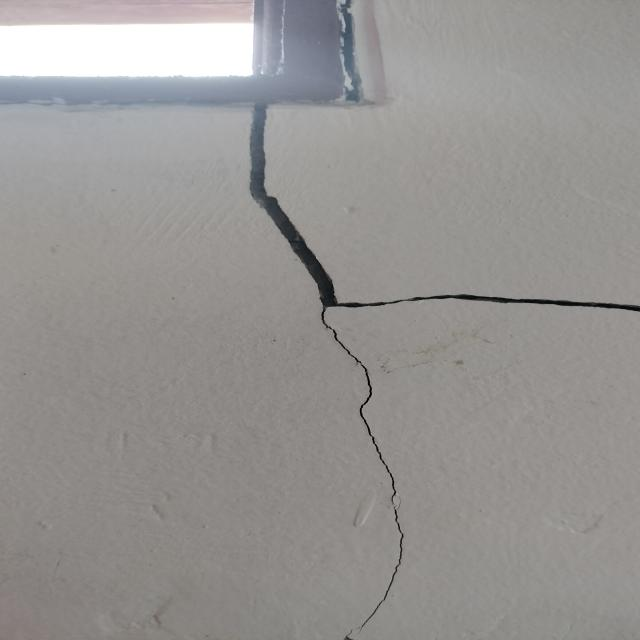Crack: (238, 109, 640, 640)
